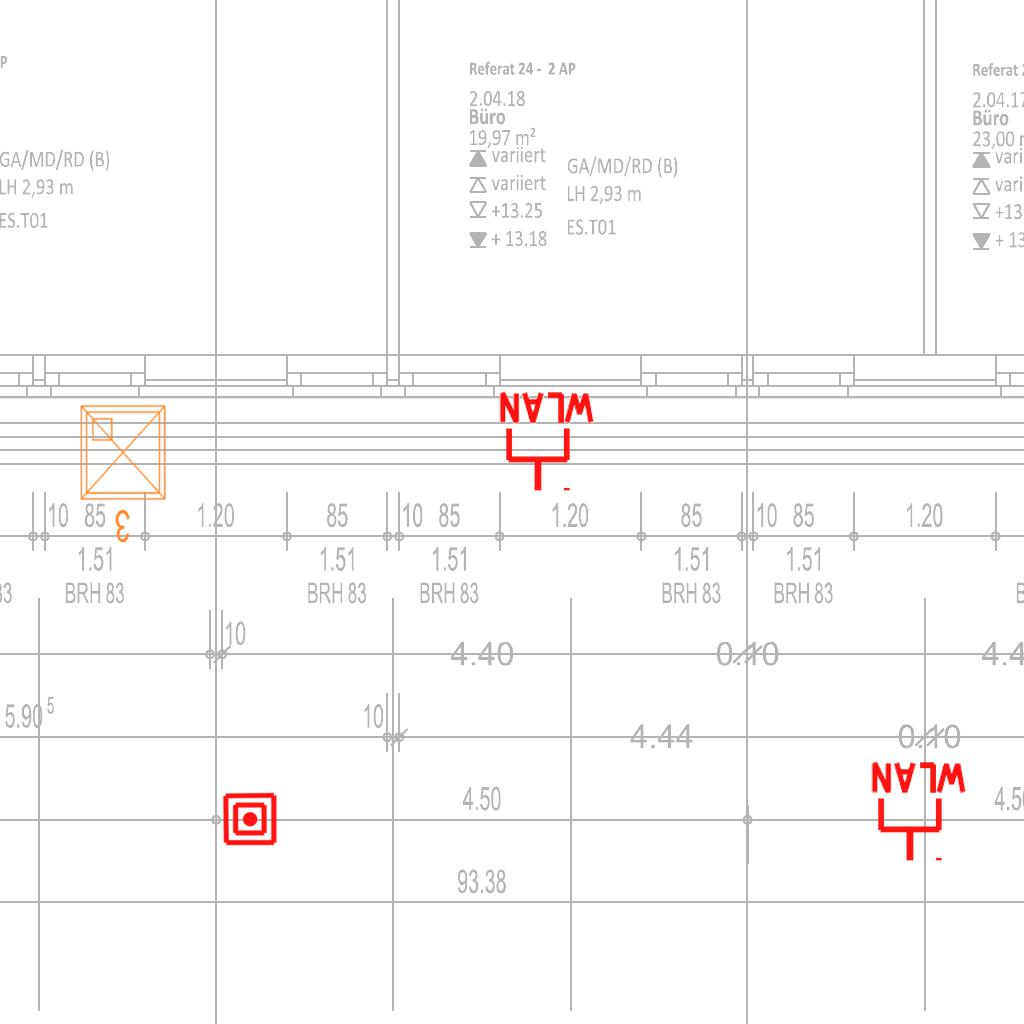Einbaudownlights_LED_Konferenzraeume: (73, 398, 177, 548)
NAM-Nichtautomatischer_Melder: (222, 791, 278, 847)
WLAN: (495, 390, 599, 495), (867, 760, 971, 865)
